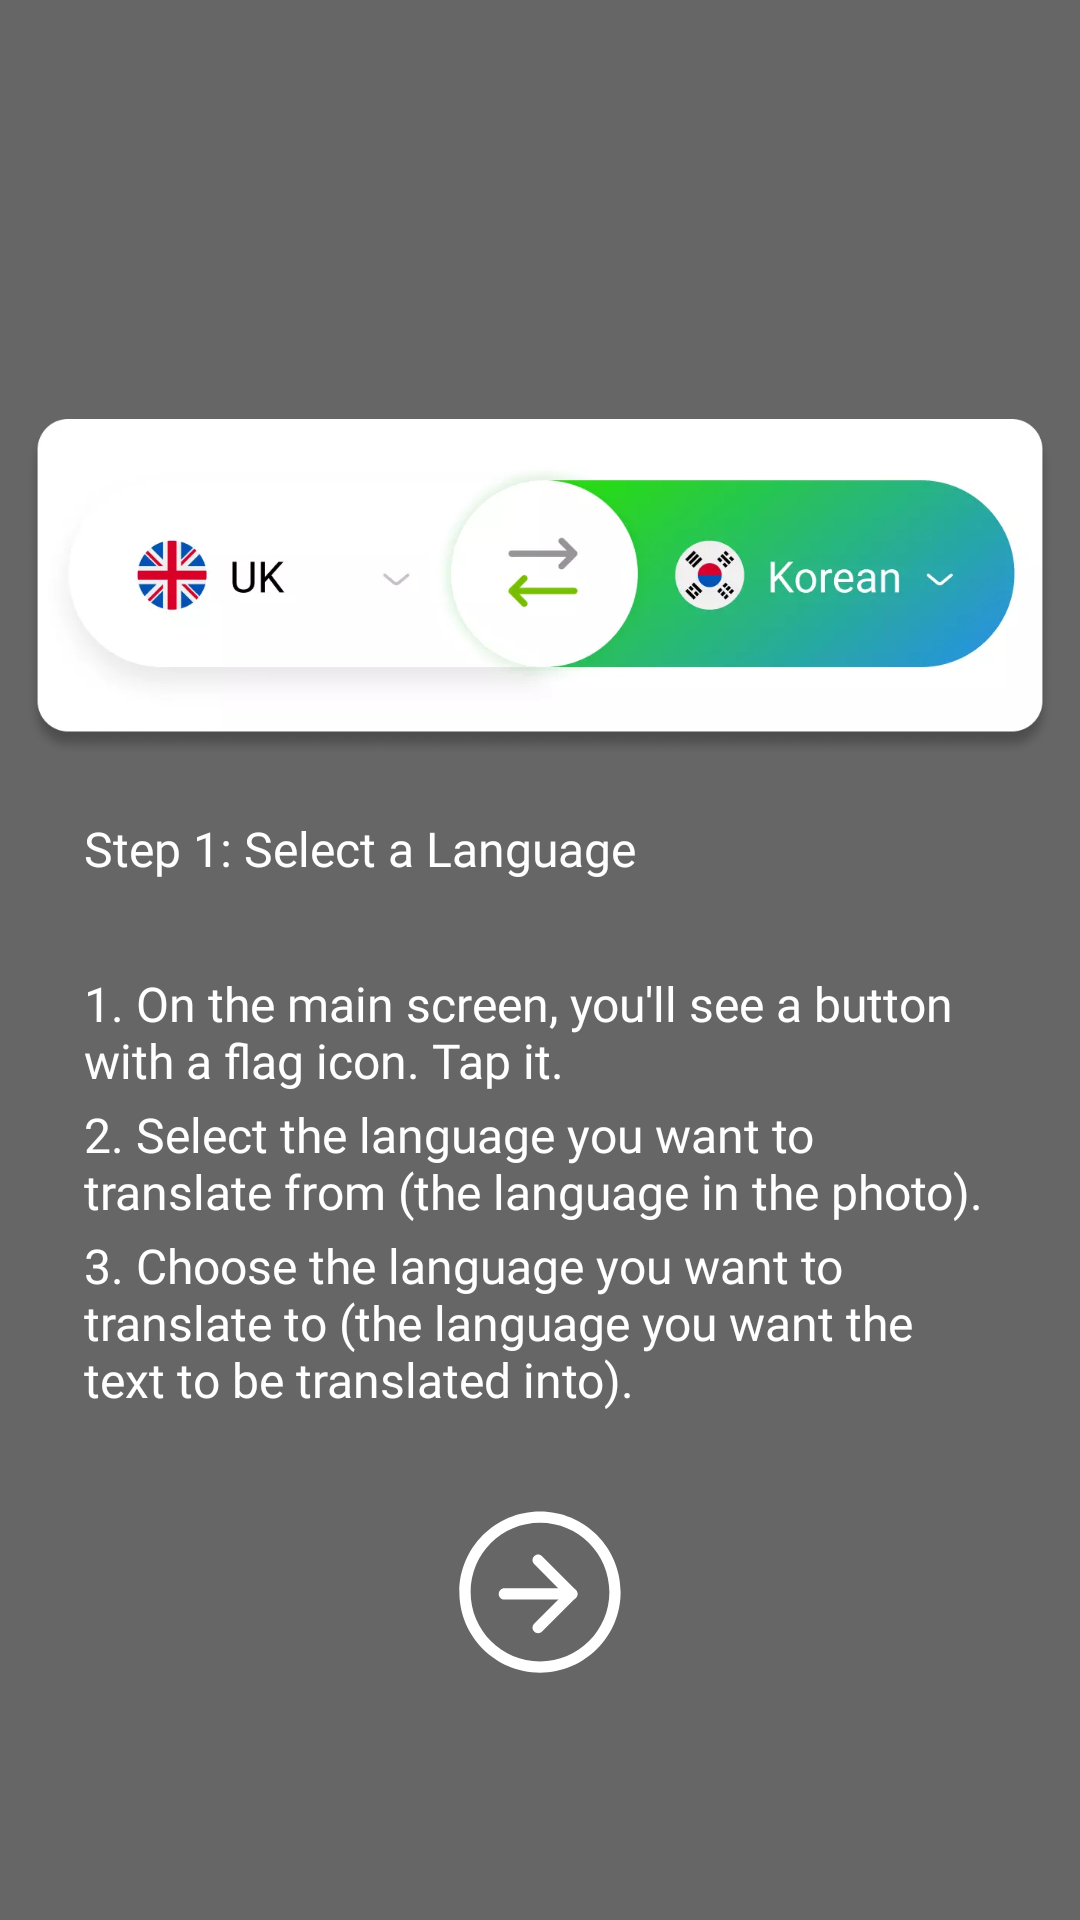

Named icons in this screenshot (1080×1920) and their bounding boxes, detection(x1, y1, x2, y2):
next guide: detection(459, 1511, 621, 1673)
